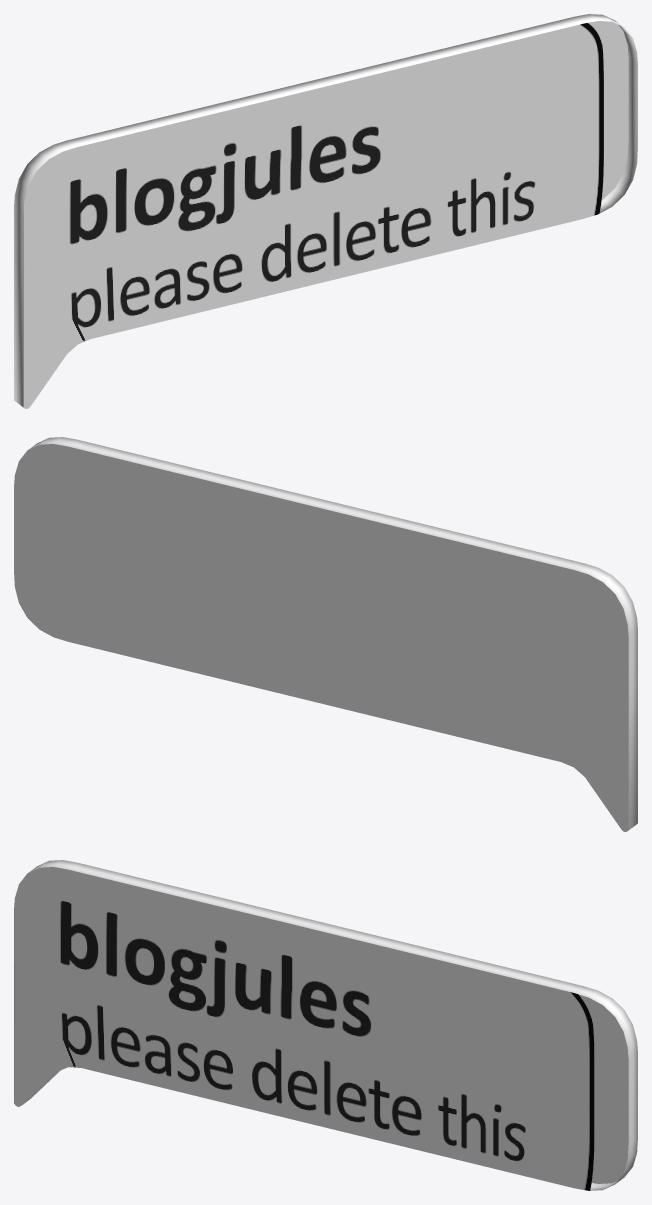
The model's file is OLDEp5_Message-C.fbx.
3 renders of one model, top to bottom at view 1: azimuth 30°, elevation 25°; view 2: azimuth 150°, elevation 25°; view 3: azimuth 330°, elevation 25°, orthographic.
Visible parts, largest first — view 1: Messages-C; view 2: Messages-C; view 3: Messages-C.
Part boxes in pixels (x1,y1,x2,y2): Messages-C: (14, 14, 637, 408); Messages-C: (14, 437, 637, 831); Messages-C: (14, 860, 637, 1190).
Bounding box in the file's own units: 1179 × 458 × 31.43.
